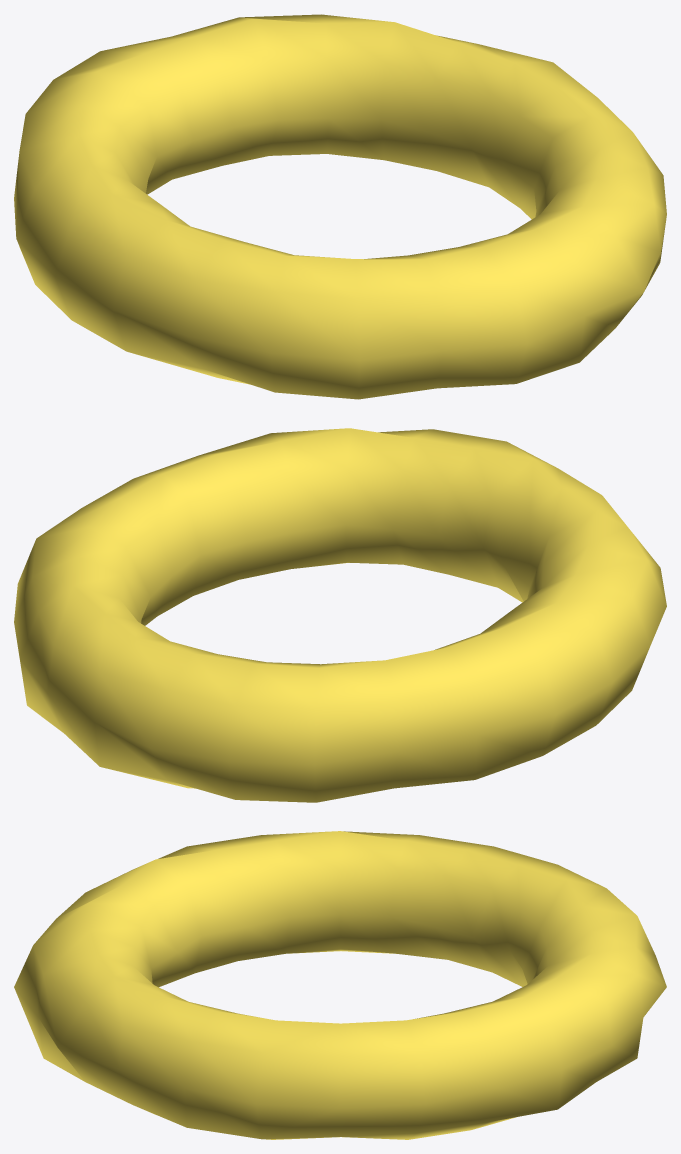
Rendered from OnionRing1.fbx.
The picture shows the model from 3 angles, top to bottom: view 1: azimuth 30°, elevation 25°; view 2: azimuth 150°, elevation 25°; view 3: azimuth 270°, elevation 25°; orthographic projection. The views are drawn at different scales.
Parts seen in each view (by area): view 1: OnionRing_Raw; view 2: OnionRing_Raw; view 3: OnionRing_Raw.
Boxes of the visible parts, left/top/right/bottom form: OnionRing_Raw: left=14, top=14, right=666, bottom=399; OnionRing_Raw: left=14, top=428, right=666, bottom=802; OnionRing_Raw: left=14, top=831, right=666, bottom=1139.
Bounding box in the file's own units: 11.16 × 2.54 × 12.71.
